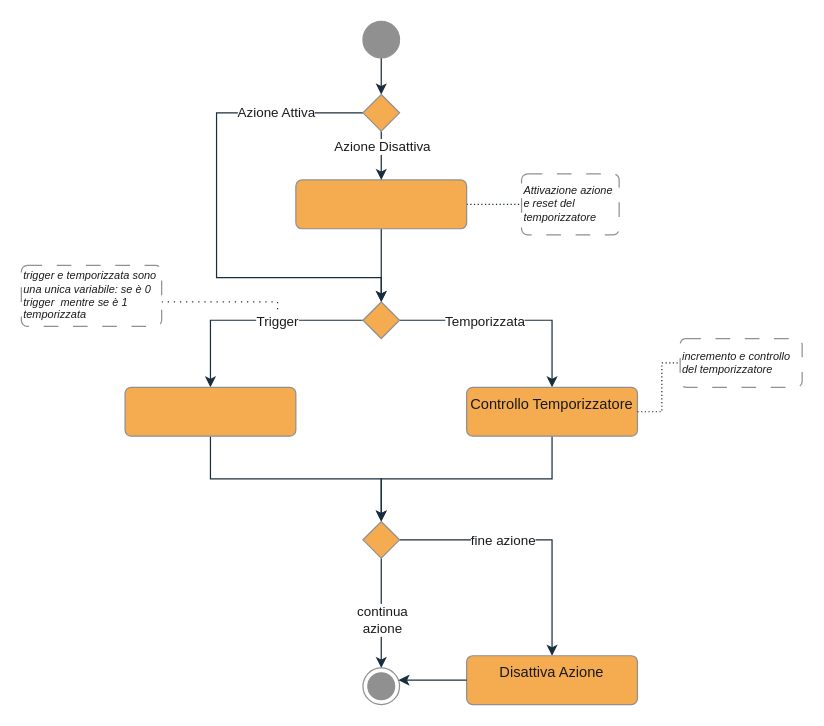
Image size: 824x726. Some labels were removed from this diagram. The shapes that lost their labels are listed below. From the top down, each one's centre as x and y in pixels, then its label:
point (381, 204): Attiva Azione
point (210, 411): Controllo Trigger
